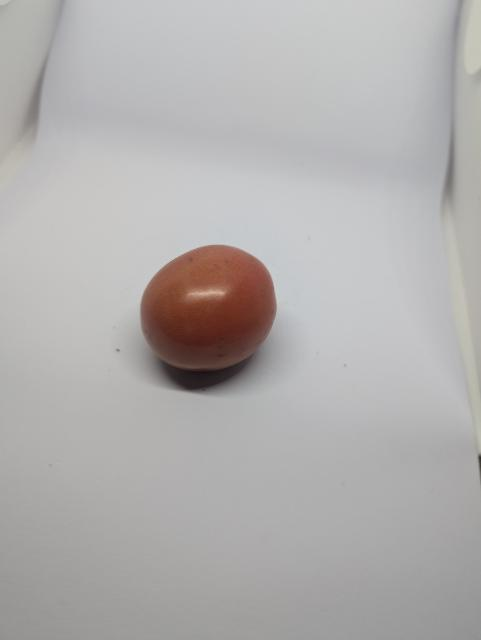red: (129, 234, 299, 393)
